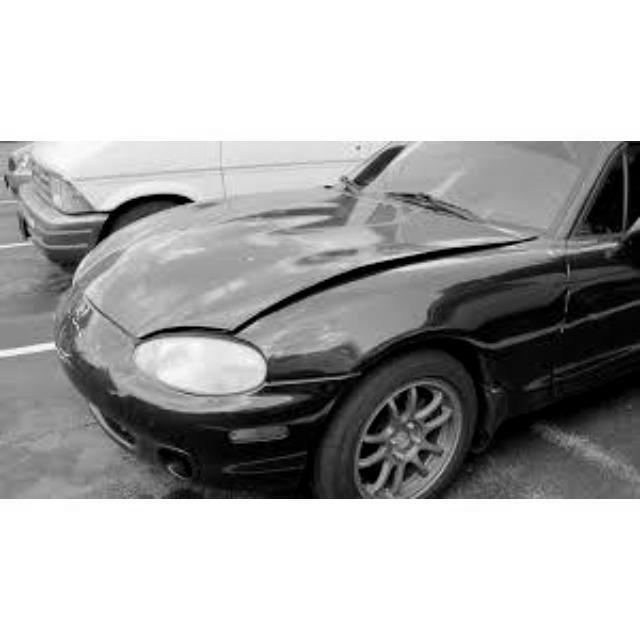fender-dent: (389, 274, 544, 410)
